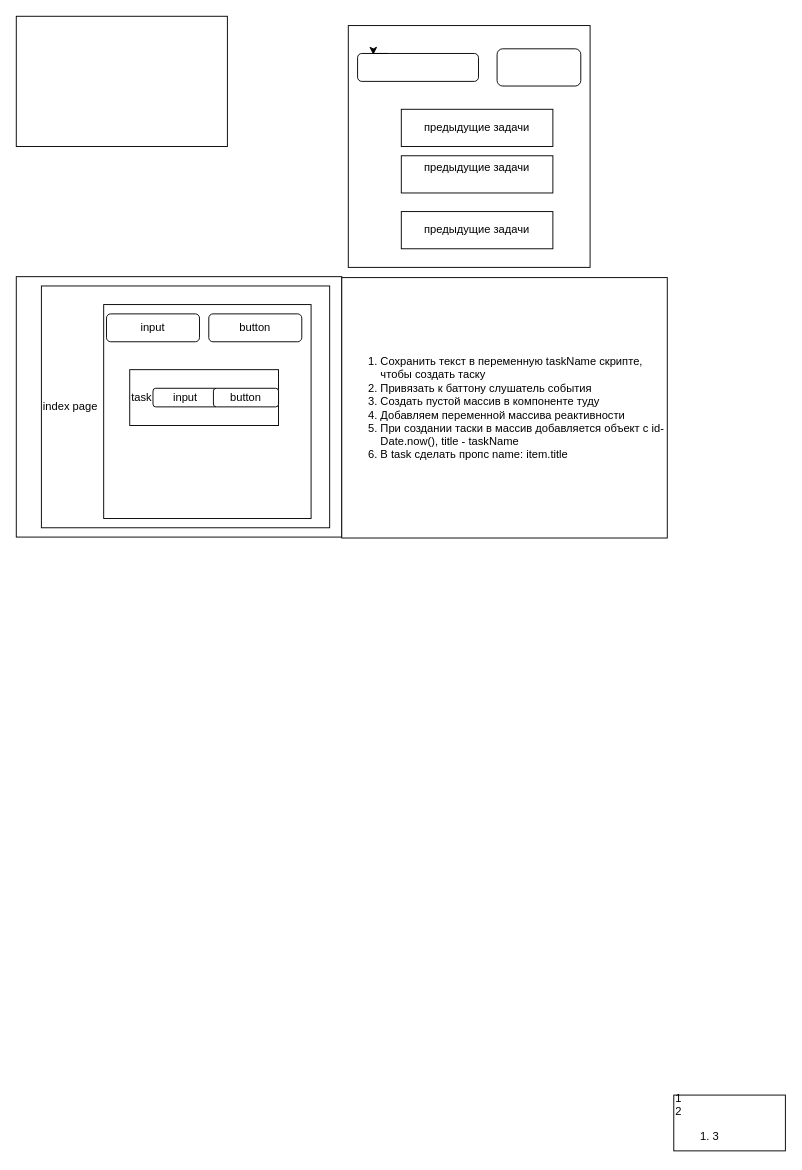
Image size: 802x1170. Some labels were removed from this diagram. The shapes that lost their labels are listed below. From the top down, each one's box as (x1, y1, x2, y2) in pixels, then its label:
(15, 15, 227, 146): input кнопка добавить Ниже список дел каждую туду можно удалить и изменить
(357, 53, 478, 81): инпут(введите задачу)
(496, 48, 581, 86): кнопка (добавить)
(15, 276, 342, 537): app
(103, 304, 311, 518): todo
